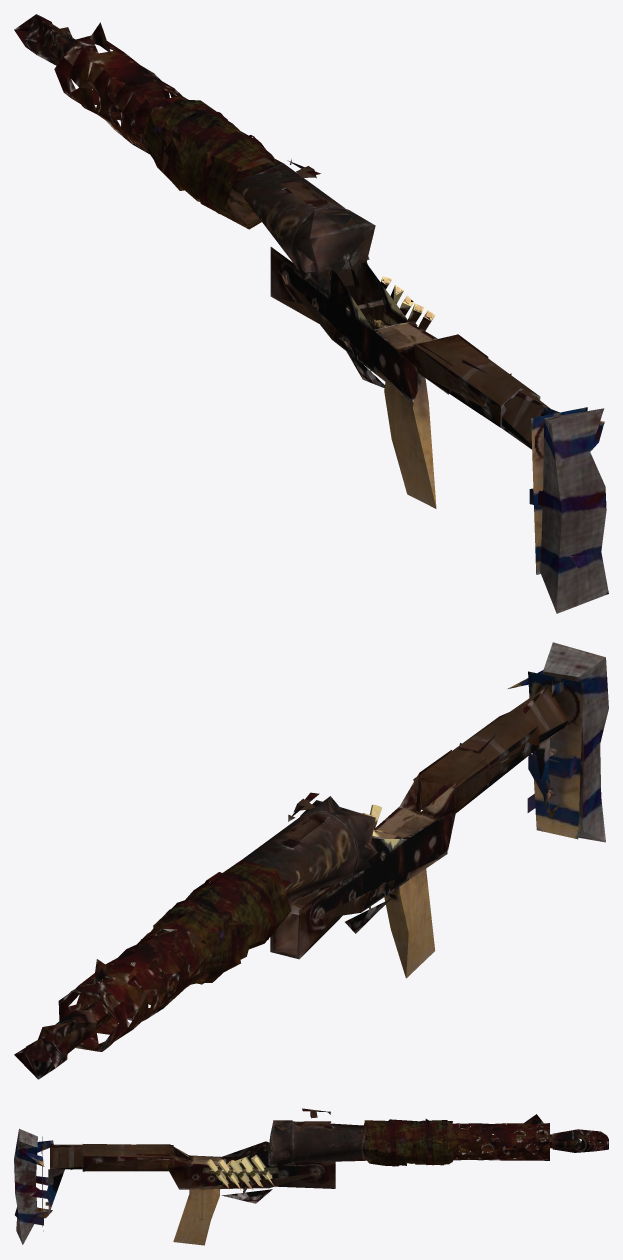
Rendered from homemade_gun.glb.
3 renders of one model, top to bottom at view 1: azimuth 30°, elevation 25°; view 2: azimuth 150°, elevation 25°; view 3: azimuth 270°, elevation 25°, orthographic. The views are drawn at different scales.
Parts seen in each view (by area): view 1: homemade_gun; view 2: homemade_gun; view 3: homemade_gun.
Part boxes in pixels (bbox=[...]): homemade_gun: bbox=[14, 14, 608, 613]; homemade_gun: bbox=[14, 642, 608, 1079]; homemade_gun: bbox=[14, 1108, 608, 1245].
Size of what is drawn, in the model's own units: 0.089 by 0.2518 by 0.9973.
1 material, 1 textured.
